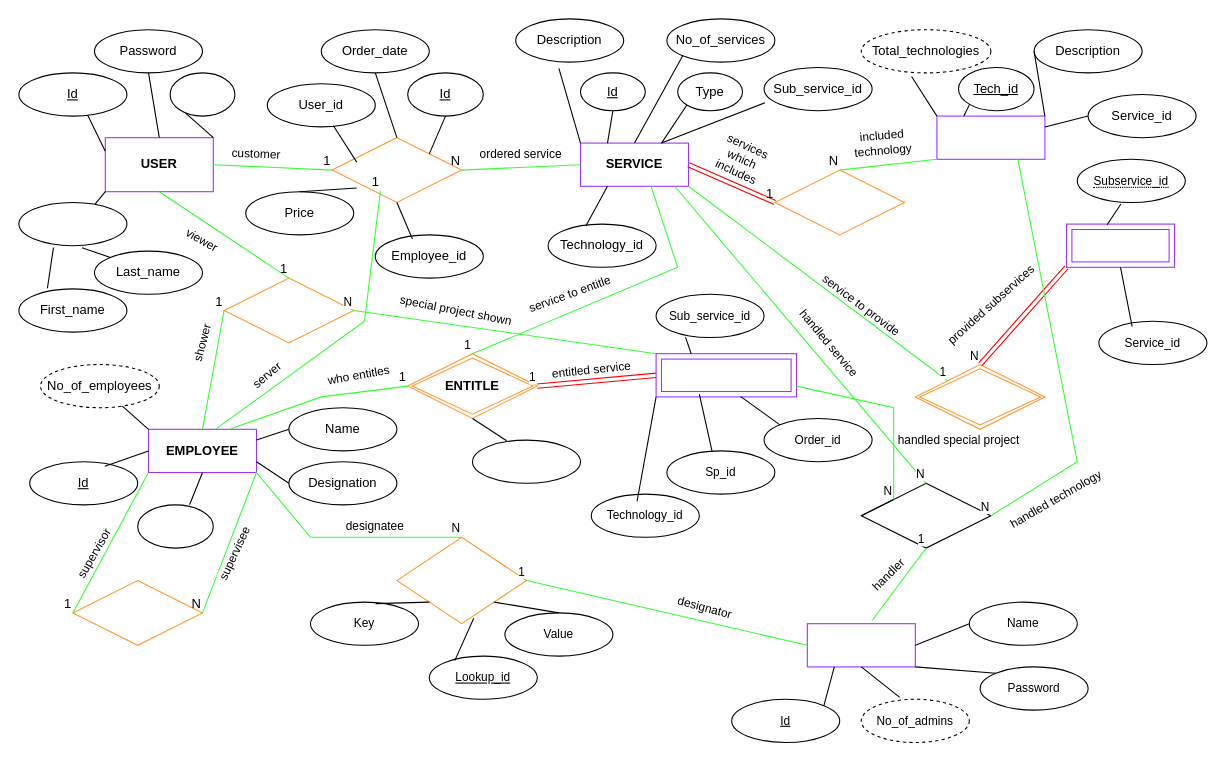
Image size: 1226x761. Some labels were removed from this diagram. The centre of each missing label's shape, as x and y in pixels:
ADMIN: (860,645)
DESIGNATE: (461,580)
Email: (202,94)
HANDLE: (925,515)
INCLUDE: (839,202)
ORDER: (396,169)
Phone: (175,526)
PROVIDE: (979,396)
SPECIAL_PROJECT: (725,375)
SUBSERVICE: (1119,245)
SUPERVISE: (137,612)
TECHNOLOGY: (990,137)
Title: (525,461)
Username: (72,223)
VIEW: (288,310)
